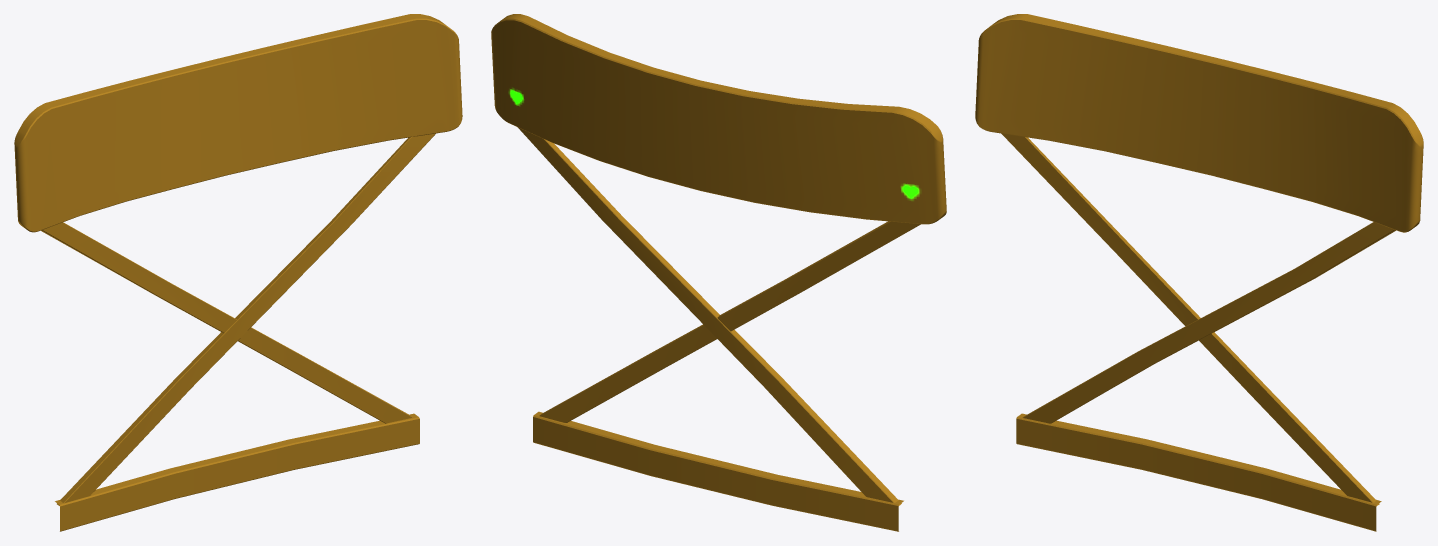
Rendered from chairBack.glb.
3 renders of one model, left to right at view 1: azimuth 30°, elevation 25°; view 2: azimuth 150°, elevation 25°; view 3: azimuth 330°, elevation 25°, orthographic.
Visible parts, largest first — view 1: backRest; view 2: backRest; view 3: backRest.
Boxes of the visible parts, bbox=[...] form: backRest: bbox=[14, 14, 462, 531]; backRest: bbox=[491, 14, 946, 531]; backRest: bbox=[975, 14, 1423, 531].
Bounding box in the file's own units: 0.4242 × 0.3848 × 0.0491.
Materials: 1 (1 with a texture image).
